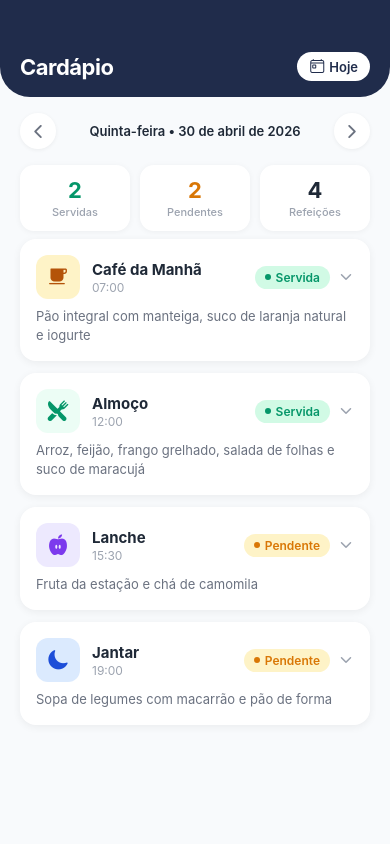
Test: CardapioPage › deve exibir observações quando expandido
The image size is (390, 844).
# Expande o card do almoço
Click the text "Almoço" at (120, 403), box [92,394,148,412]
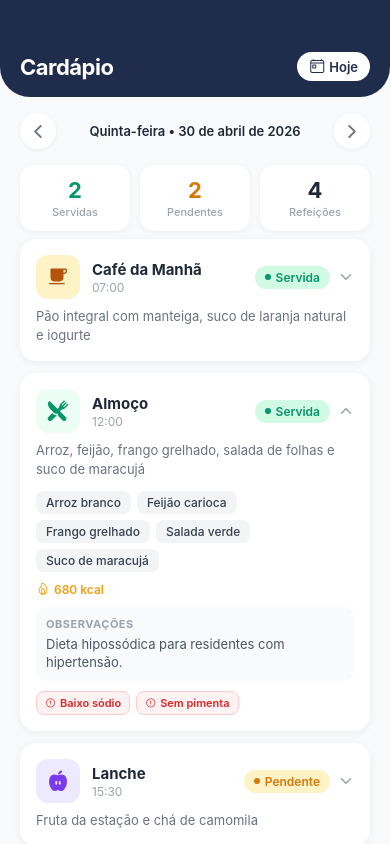
Now the text "Dieta hipossódica para residentes com hipertensão." is shown, box [46,636,288,670]
